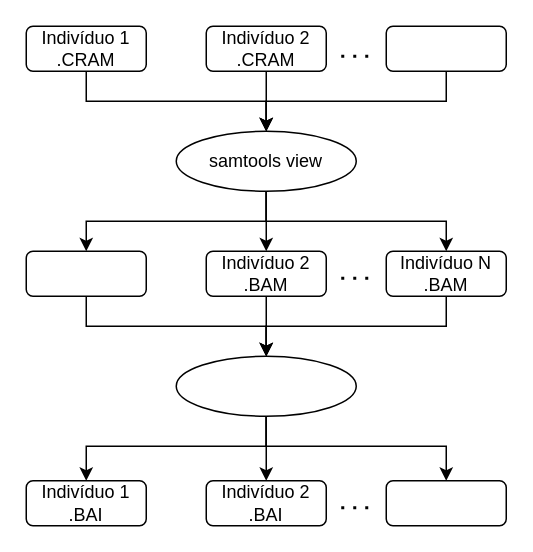
This 533x552 diagram has some shape labels left out. The shapes that lost their labels are listed below. From the top down, each one's box as (x1, y1, x2, y2) in pixels, then its label:
(385, 25, 506, 71): Indivíduo N .CRAM
(25, 250, 146, 296): Indivíduo 1 .BAM
(175, 355, 356, 416): samtools index
(385, 479, 506, 526): Indivíduo N .BAI
